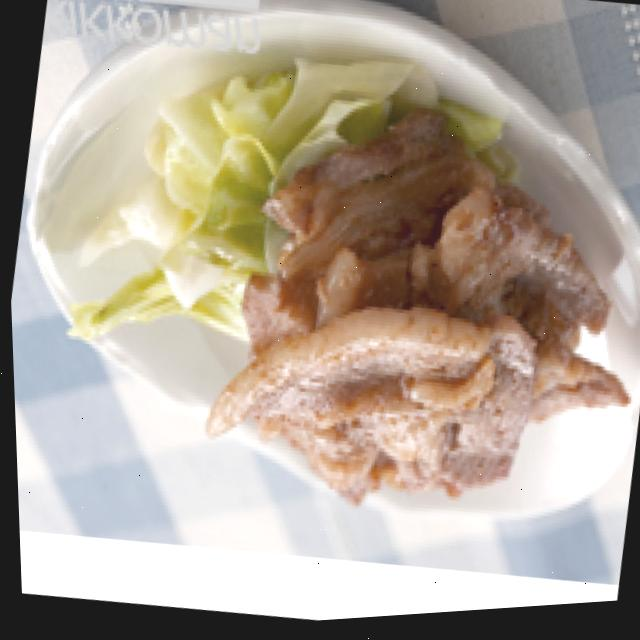猪肉菜式: (152, 68, 640, 570)
